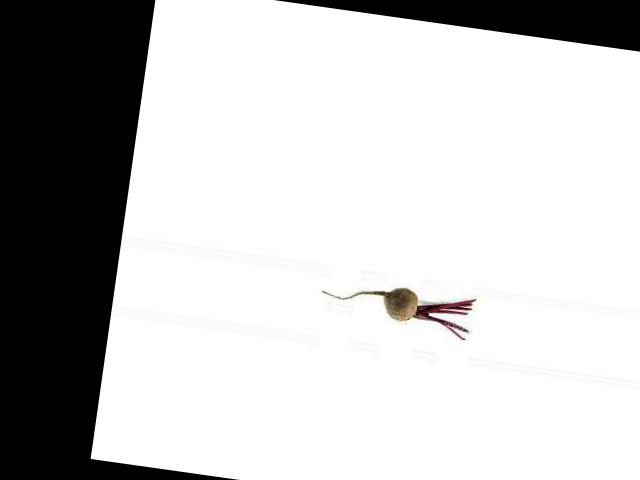beet: (317, 277, 475, 339)
